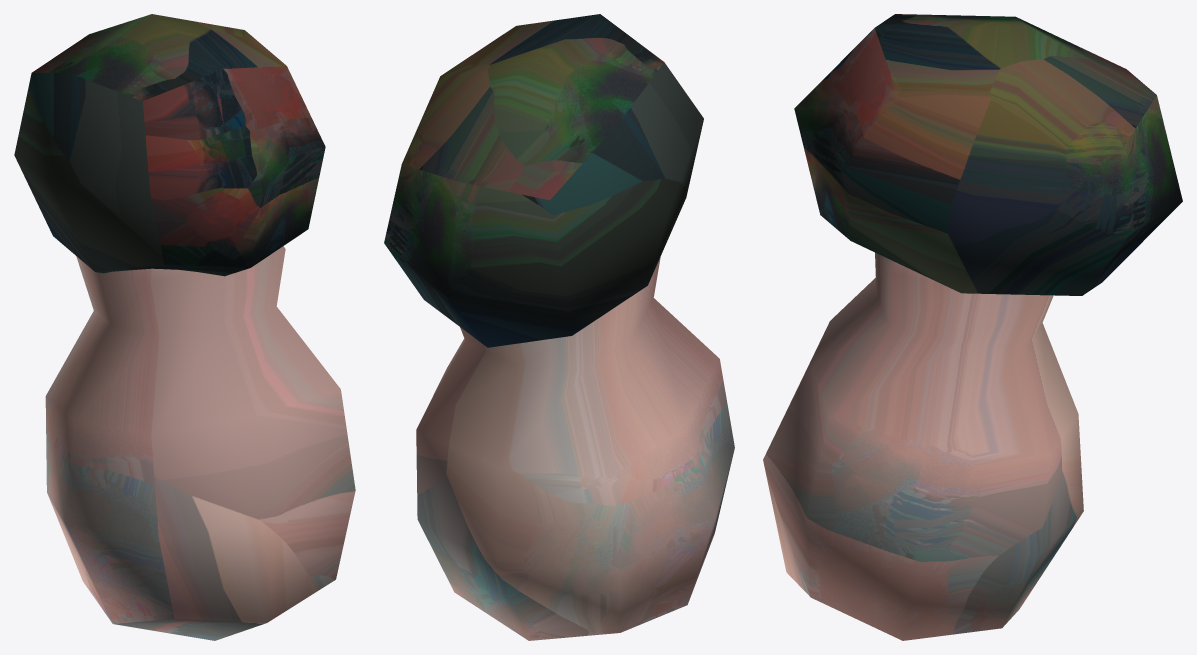
Rendered from mushroom_VAR3_1.fbx.
3 renders of one model, left to right at view 1: azimuth 30°, elevation 25°; view 2: azimuth 150°, elevation 25°; view 3: azimuth 270°, elevation 25°, orthographic. The views are drawn at different scales.
Visible parts, largest first — view 1: Cube, Cube.005; view 2: Cube, Cube.005; view 3: Cube, Cube.005.
Boxes of the visible parts, <box> form: Cube: <box>45,246,355,640</box>; Cube.005: <box>14,14,325,276</box>; Cube: <box>416,257,734,640</box>; Cube.005: <box>384,14,703,347</box>; Cube: <box>763,252,1083,640</box>; Cube.005: <box>794,14,1182,295</box>.
Bounding box in the file's own units: 542 × 1109 × 698.
